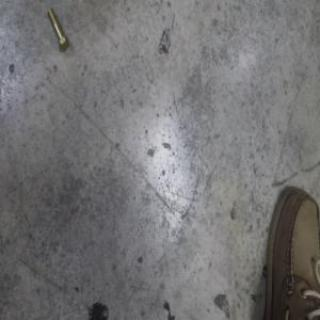Bolttrack_idkeyframe: (46, 7, 69, 53)
